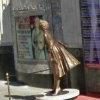Statue: (24, 8, 76, 94)
